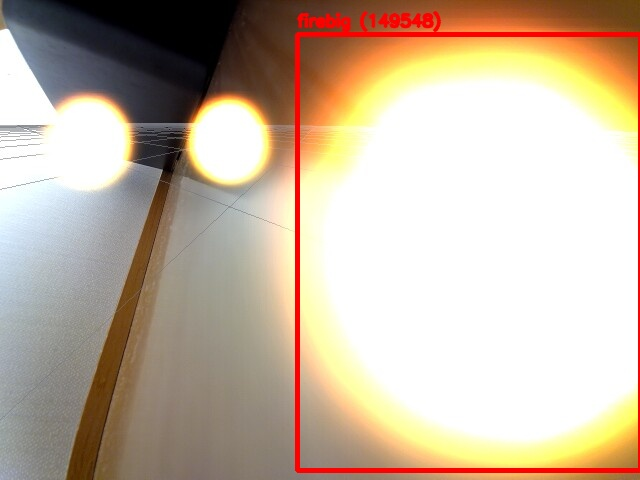firebig: (297, 34, 640, 470)
